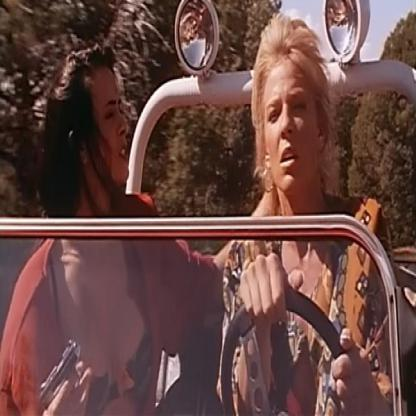Guns: (36, 332, 83, 414)
